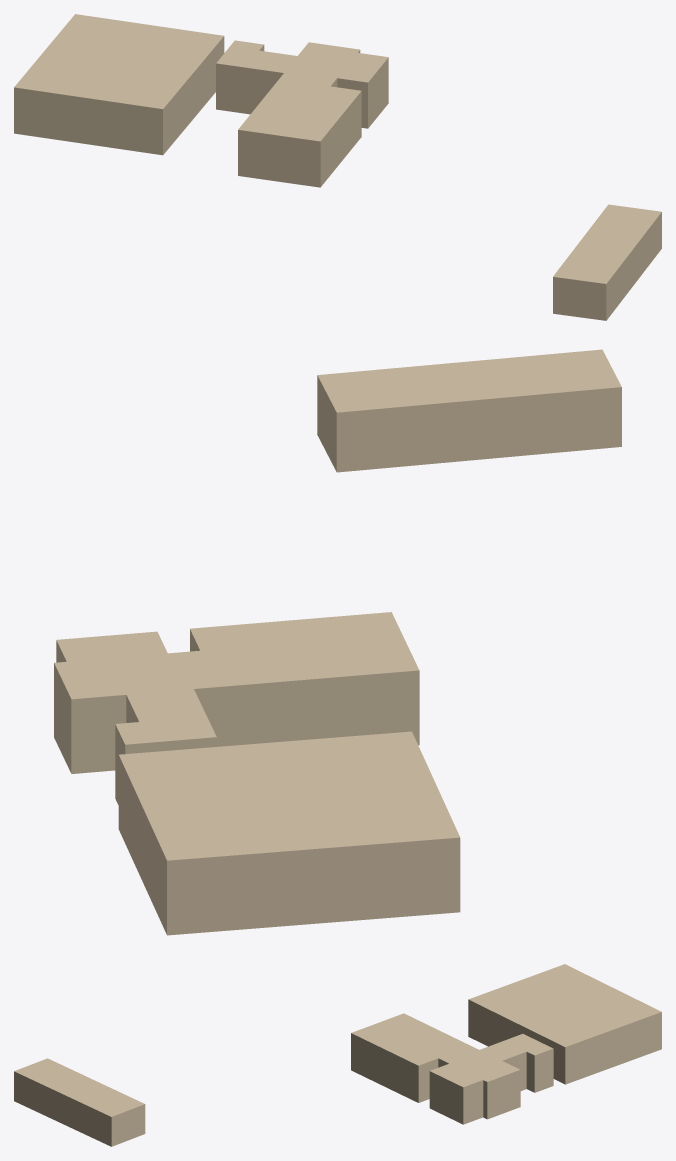
Rendered from -11_6-estimated-coarse.glb.
3 views of the same model, one above another, from view 1: azimuth 30°, elevation 25°; view 2: azimuth 150°, elevation 25°; view 3: azimuth 270°, elevation 25° (orthographic). The views are drawn at different scales.
Bounding box in the file's own units: 125 × 15 × 236.
